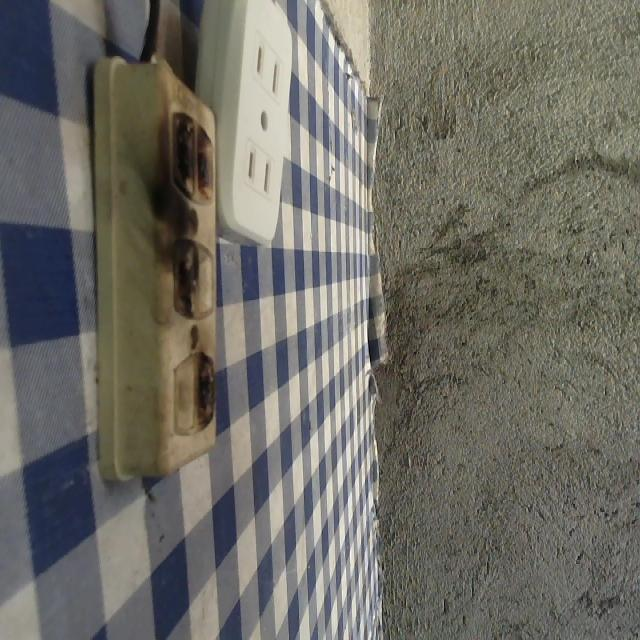-: (148, 100, 218, 208), (161, 225, 204, 327), (195, 347, 220, 432)
